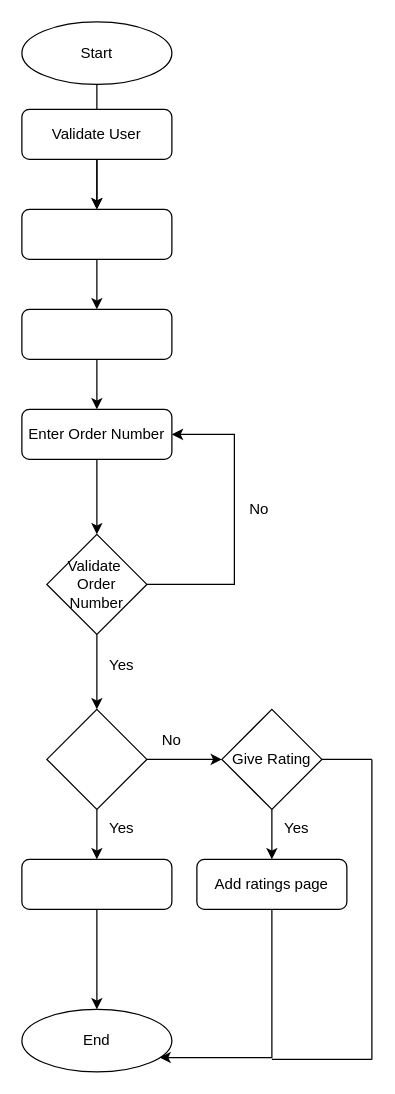
Some shapes in this 395 by 1094 pixel diagram are drawn without their labels. Here are the shapes that lost their labels. From the top down, the box of each, then its label:
(21, 208, 172, 259): Online Support Option
(21, 308, 172, 359): Chat Module
(46, 708, 147, 809): Track Order
(21, 858, 172, 909): Show order details page
